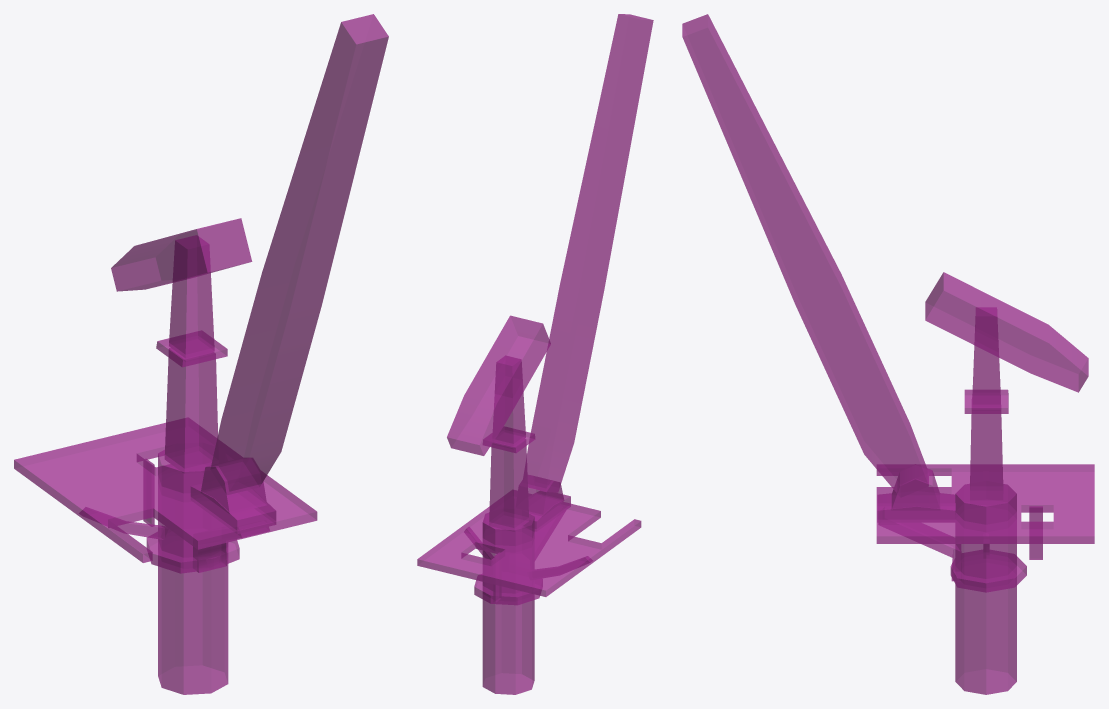
File: SM_Prop_Crane_01_Platform_01_Collision.fbx
The picture shows the model from 3 angles, left to right: view 1: azimuth 30°, elevation 25°; view 2: azimuth 150°, elevation 25°; view 3: azimuth 270°, elevation 25°; orthographic projection. The views are drawn at different scales.
Visible parts, largest first — view 1: SM_Prop_Crane_01_Platform_01_Collision; view 2: SM_Prop_Crane_01_Platform_01_Collision; view 3: SM_Prop_Crane_01_Platform_01_Collision.
Part boxes in pixels (x1,y1,x2,y2): SM_Prop_Crane_01_Platform_01_Collision: [14, 14, 388, 694]; SM_Prop_Crane_01_Platform_01_Collision: [417, 14, 653, 694]; SM_Prop_Crane_01_Platform_01_Collision: [682, 14, 1094, 694].
Size of the model in its own units: 659 by 2827 by 1597.
